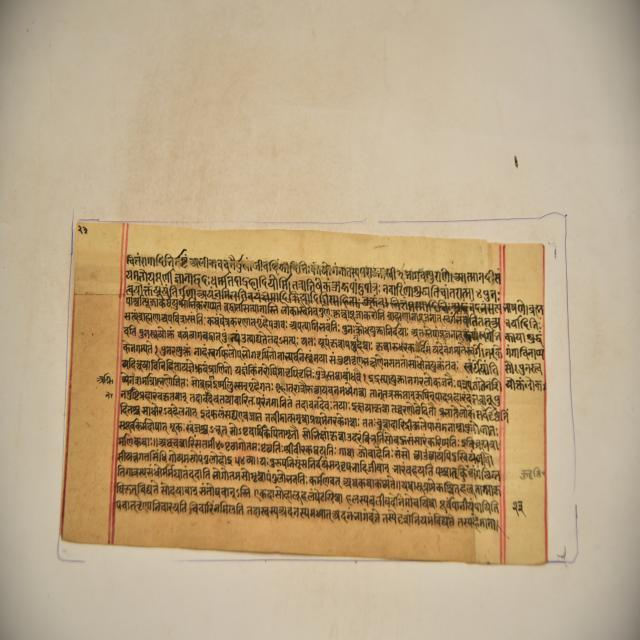text_paragraph: (60, 222, 547, 562)
